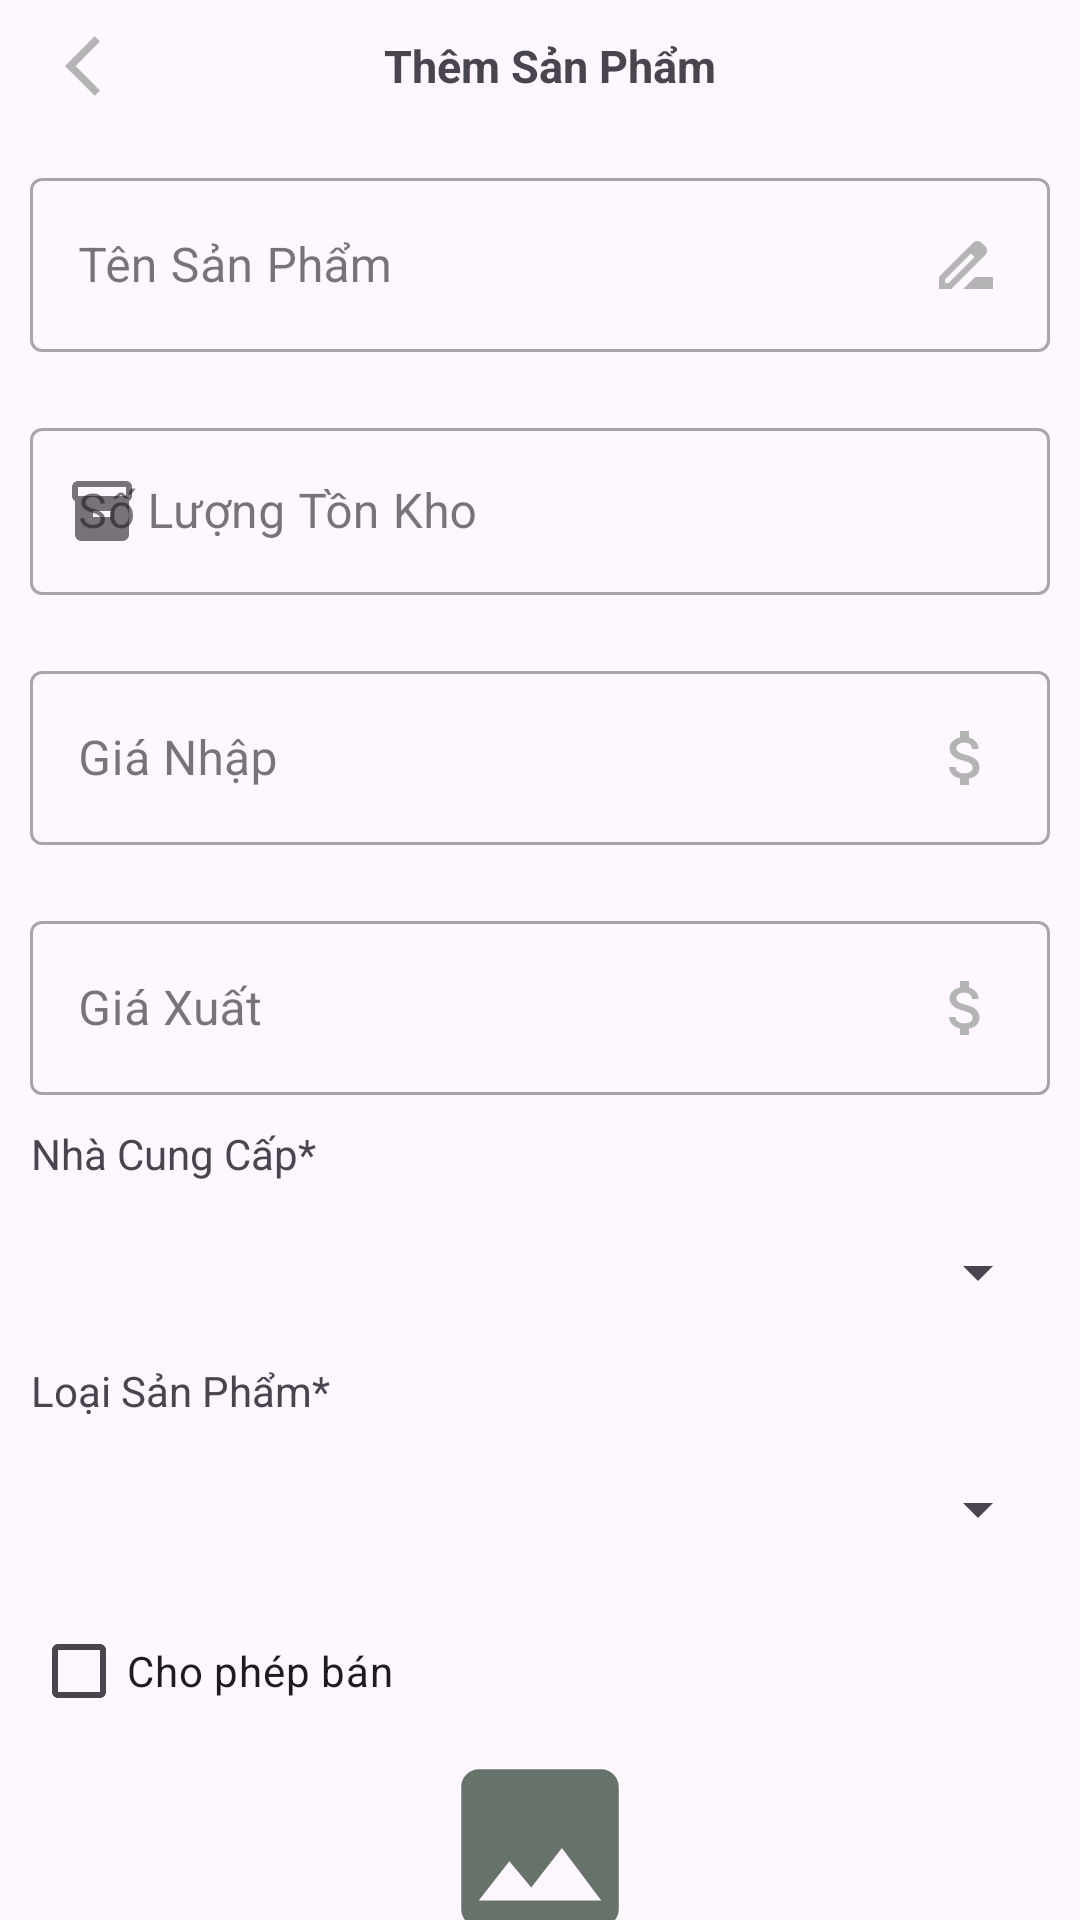

Icon bounding boxes for this 1080 × 1920 phone screenshot, format region(x1, y1, x2, y2):
arrow back: region(65, 36, 100, 96)
